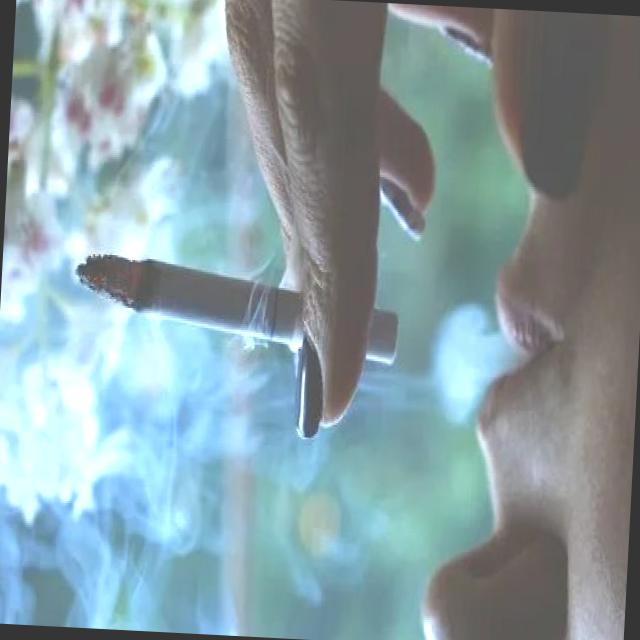cigarette: (63, 248, 406, 366)
